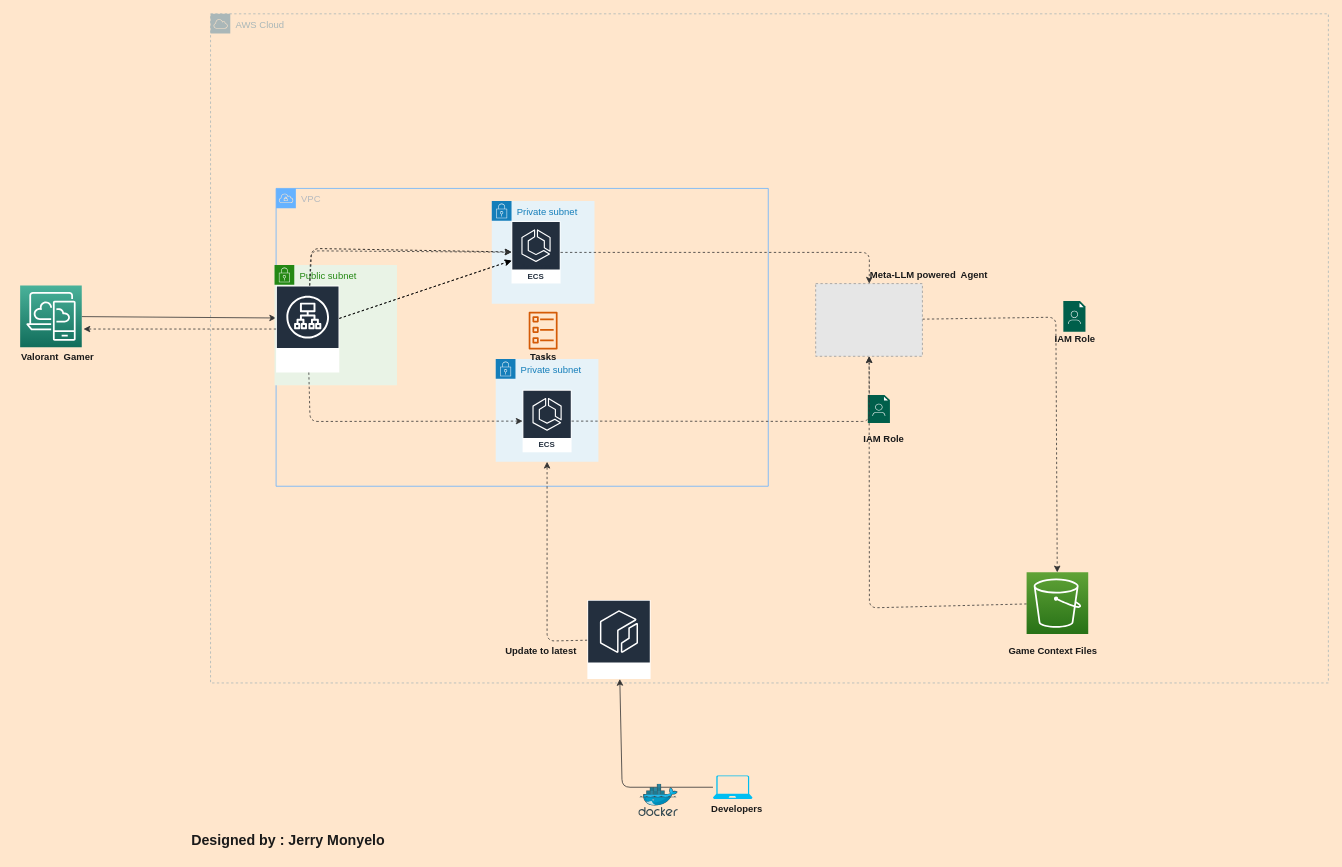
This 1342x867 diagram has some shape labels left out. Grey dashed boxes stand in for pictures. Each missing label, with the centre of its shape:
"Amazon ECR" goes at pixel 619 639.
"Application Load Balancer" goes at pixel 307 328.
